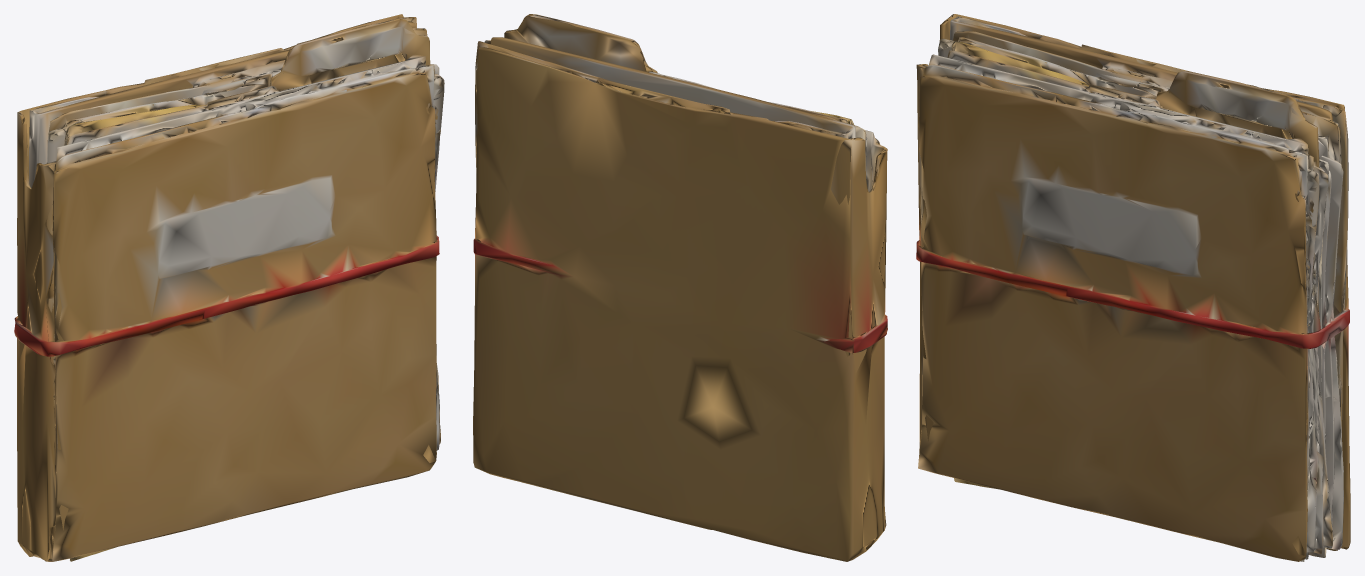
File: casefile.glb
The picture shows the model from 3 angles, left to right: view 1: azimuth 30°, elevation 25°; view 2: azimuth 150°, elevation 25°; view 3: azimuth 330°, elevation 25°; orthographic projection. The views are drawn at different scales.
Bounding box in the file's own units: 1.77 × 1.9 × 0.298.
